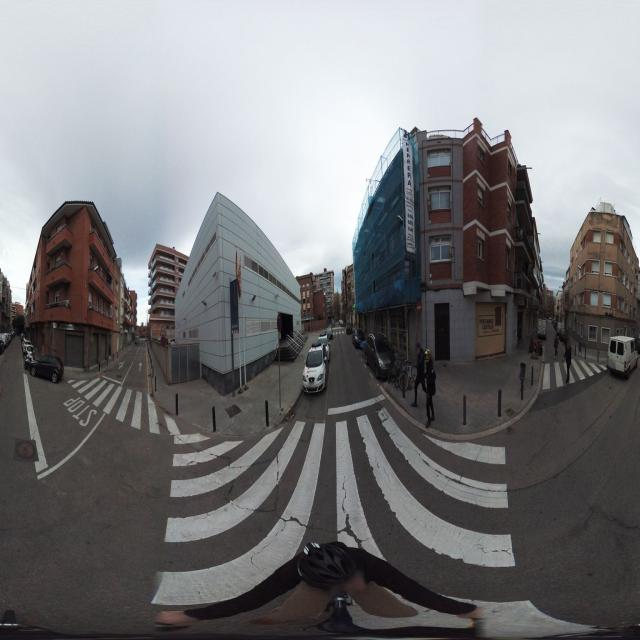forb_stopping: (277, 313, 282, 333)
forb_waiting: (160, 336, 166, 348)
